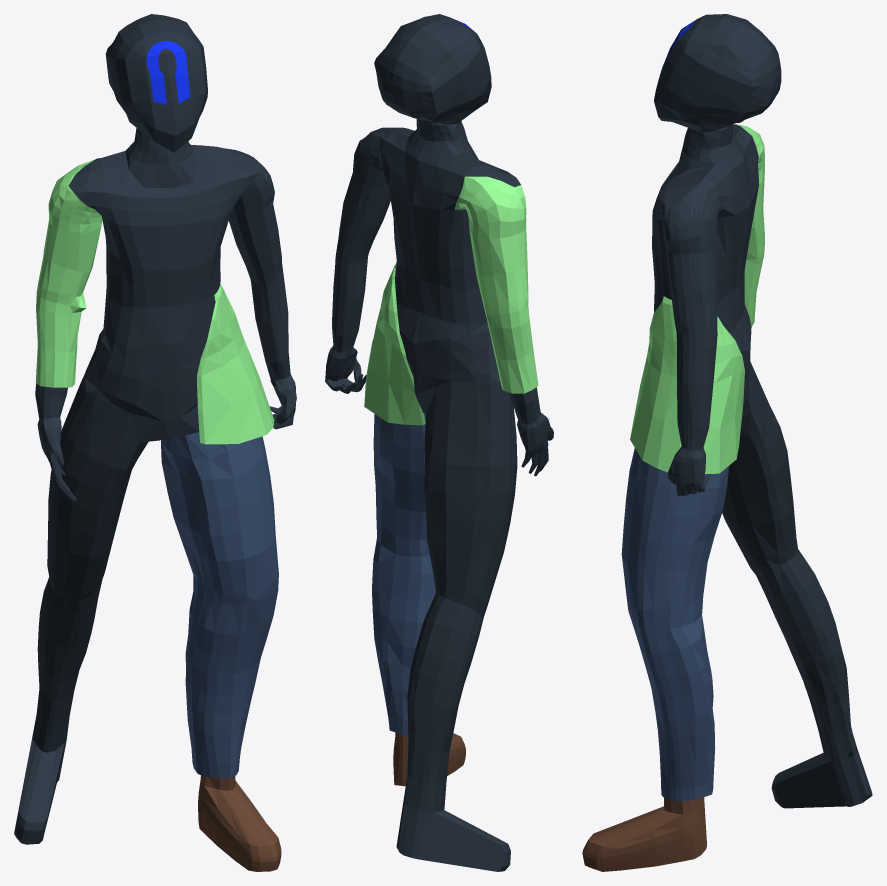
Rendered from Mar_Stun_000017.obj.
3 views of the same model, side by side, from view 1: azimuth 30°, elevation 25°; view 2: azimuth 150°, elevation 25°; view 3: azimuth 270°, elevation 25° (orthographic). The views are drawn at different scales.
Visible parts, largest first — view 1: Cube.000_Cube.001; view 2: Cube.000_Cube.001; view 3: Cube.000_Cube.001.
Part boxes in pixels (bbox=[...]): Cube.000_Cube.001: bbox=[14, 14, 296, 871]; Cube.000_Cube.001: bbox=[325, 14, 553, 871]; Cube.000_Cube.001: bbox=[582, 14, 872, 871].
Bounding box in the file's own units: 1.2 × 3.99 × 1.26.
